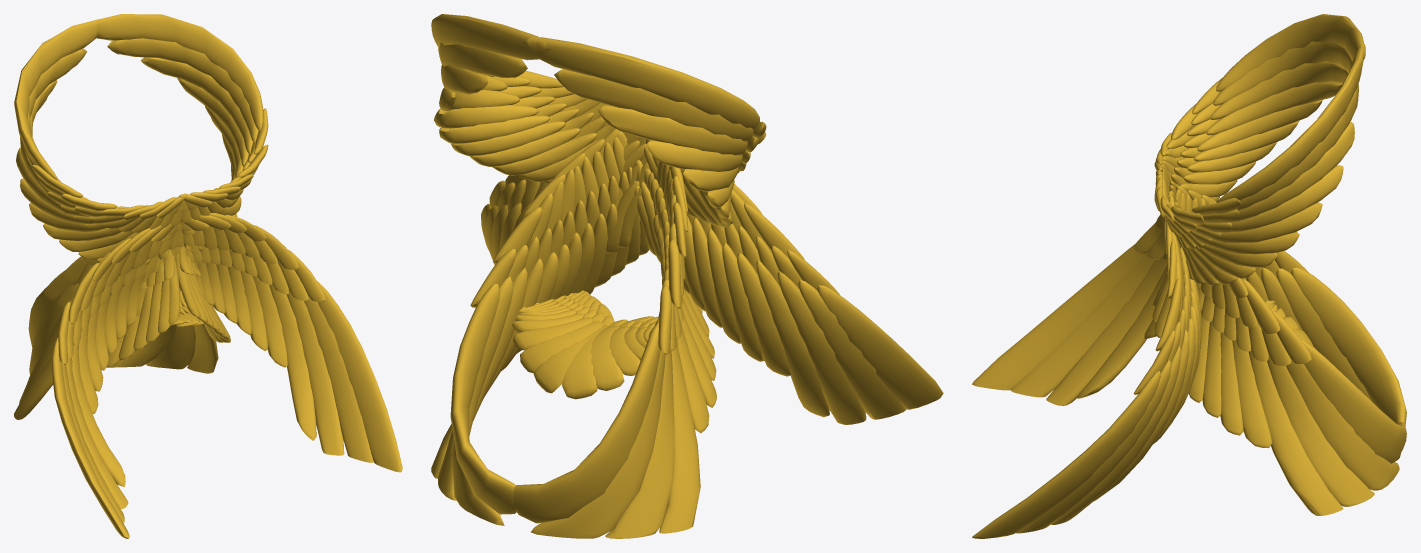
Rendered from winged_cherub_throne.glb.
3 renders of one model, left to right at view 1: azimuth 30°, elevation 25°; view 2: azimuth 150°, elevation 25°; view 3: azimuth 270°, elevation 25°, orthographic. The views are drawn at different scales.
Parts seen in each view (by area): view 1: Object_2; view 2: Object_2; view 3: Object_2.
Part boxes in pixels (box(x1,y1,x2,y2)): Object_2: box(14, 14, 402, 538); Object_2: box(431, 14, 943, 538); Object_2: box(972, 14, 1406, 538).
Size of the model in its own units: 2.68 by 3.08 by 2.92.
